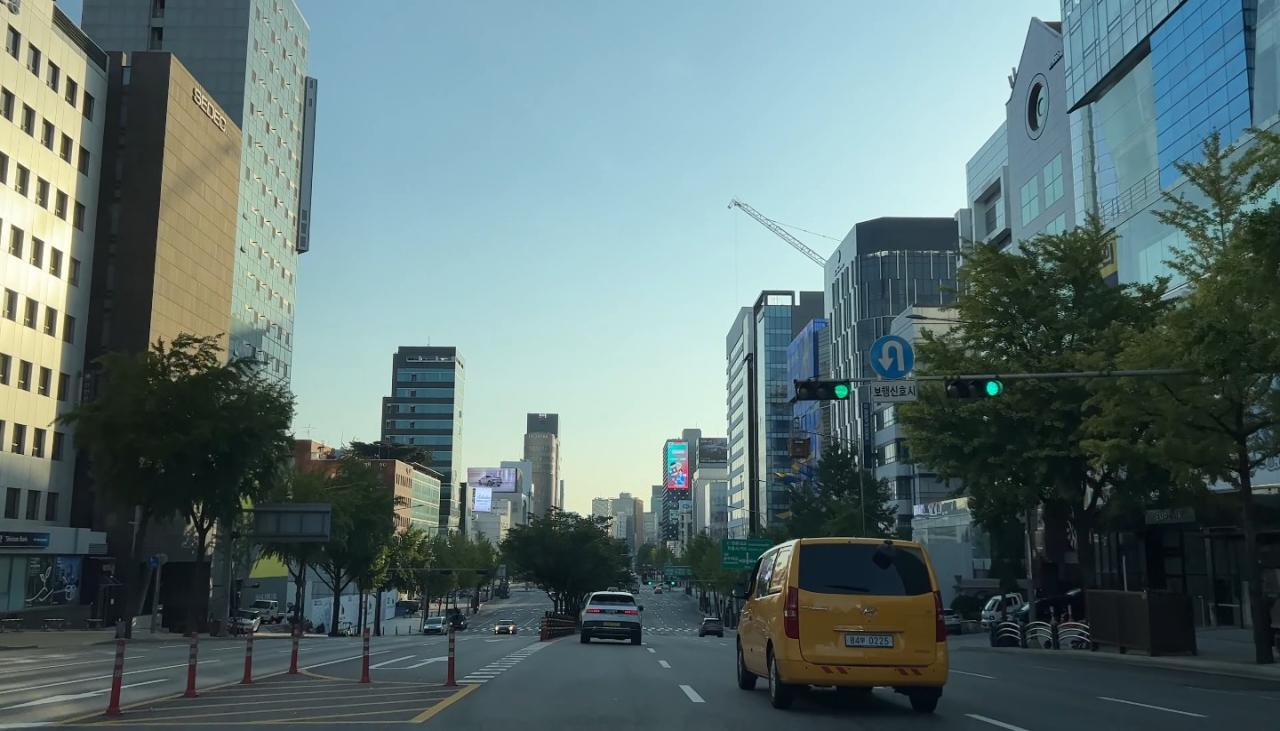Green Light: (984, 379, 1004, 398), (833, 381, 849, 400)
